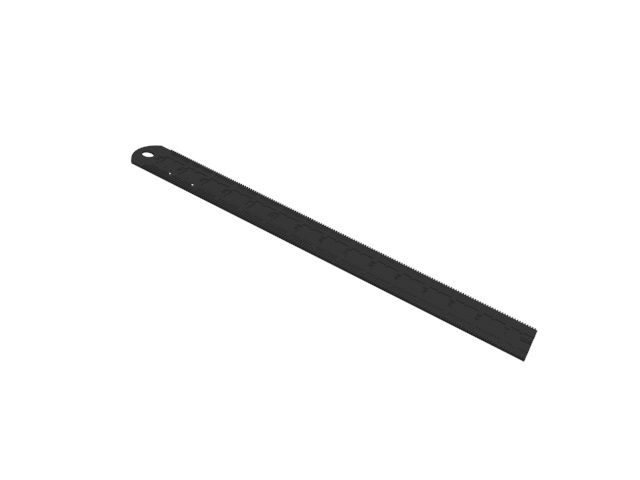ruler: (129, 145, 544, 368)
